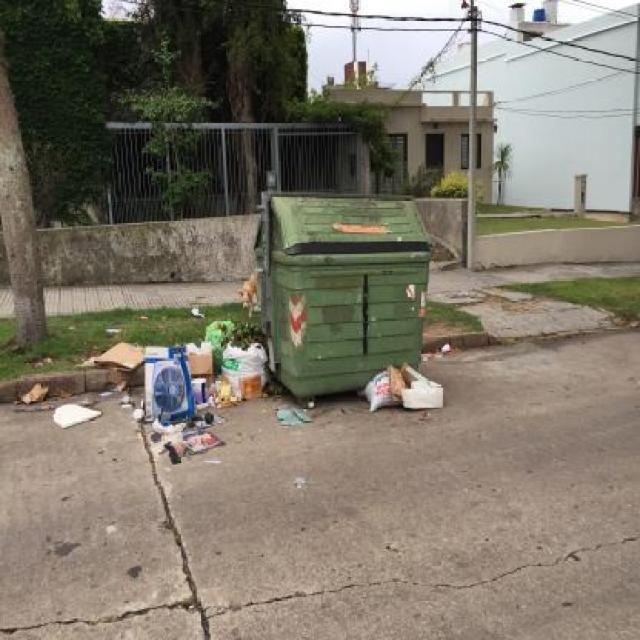garbage: (96, 319, 273, 454), (362, 361, 446, 414), (18, 380, 100, 432), (437, 343, 470, 360)
